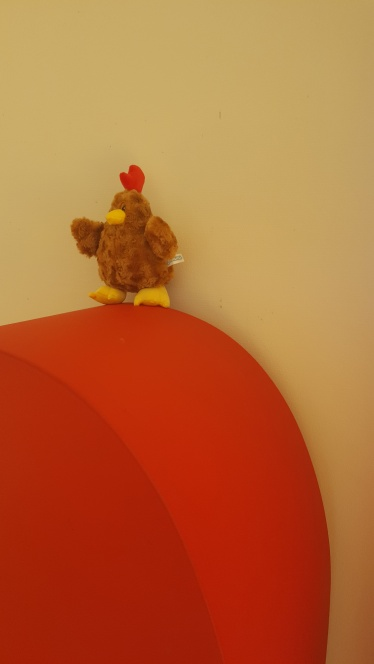chicken_front: (68, 164, 184, 308)
